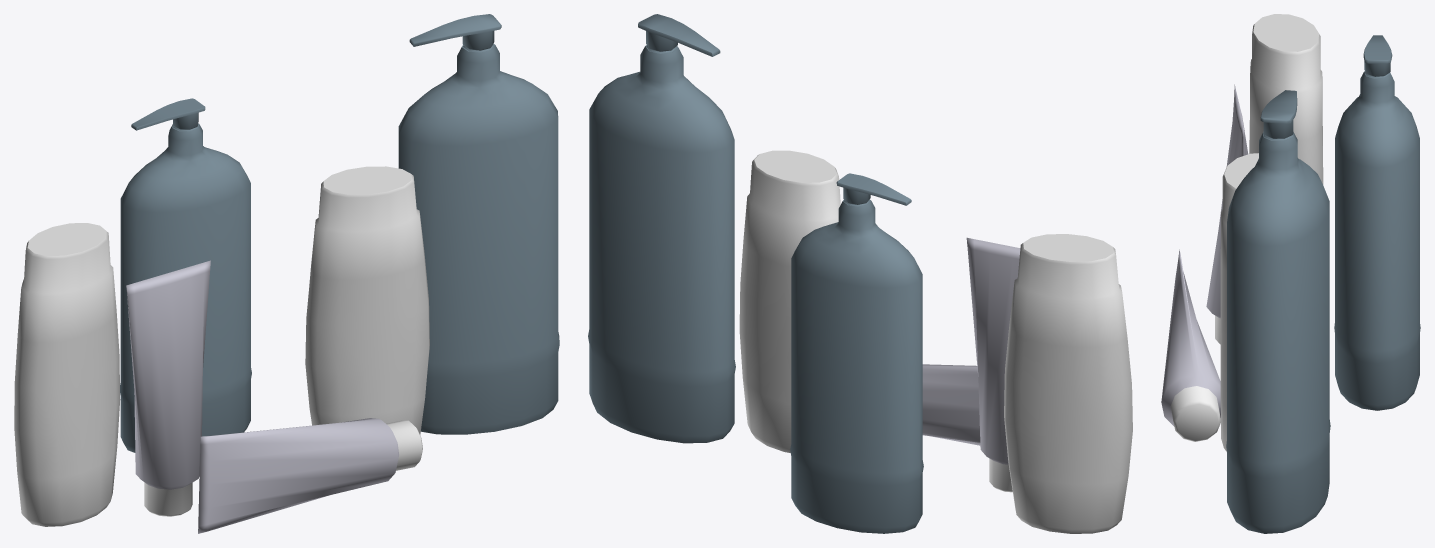
File: Wash01.FBX
The picture shows the model from 3 angles, left to right: view 1: azimuth 30°, elevation 25°; view 2: azimuth 150°, elevation 25°; view 3: azimuth 270°, elevation 25°; orthographic projection.
Visible parts, largest first — view 1: Wash01; view 2: Wash01; view 3: Wash01.
Part boxes in pixels (box(x1,y1,x2,y2)): Wash01: box(14, 14, 559, 533); Wash01: box(588, 14, 1132, 533); Wash01: box(1161, 14, 1420, 533).
Bounding box in the file's own units: 24.92 × 10.46 × 17.35.
